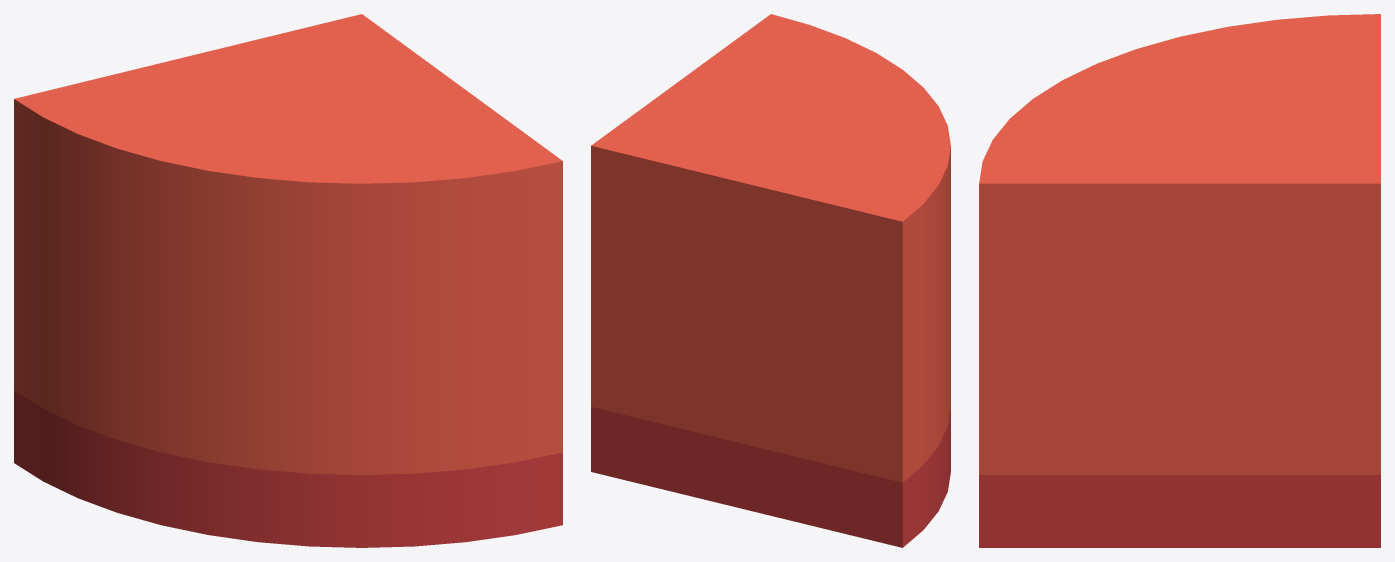
Rendered from block6.obj.
The picture shows the model from 3 angles, left to right: view 1: azimuth 30°, elevation 25°; view 2: azimuth 150°, elevation 25°; view 3: azimuth 270°, elevation 25°; orthographic projection. The views are drawn at different scales.
Visible parts, largest first — view 1: mergedBlocks; view 2: mergedBlocks; view 3: mergedBlocks.
Boxes of the visible parts, <box> form: mergedBlocks: <box>14,14,562,547</box>; mergedBlocks: <box>591,14,950,547</box>; mergedBlocks: <box>979,14,1380,547</box>.
Bounding box in the file's own units: 1 × 1 × 1.
